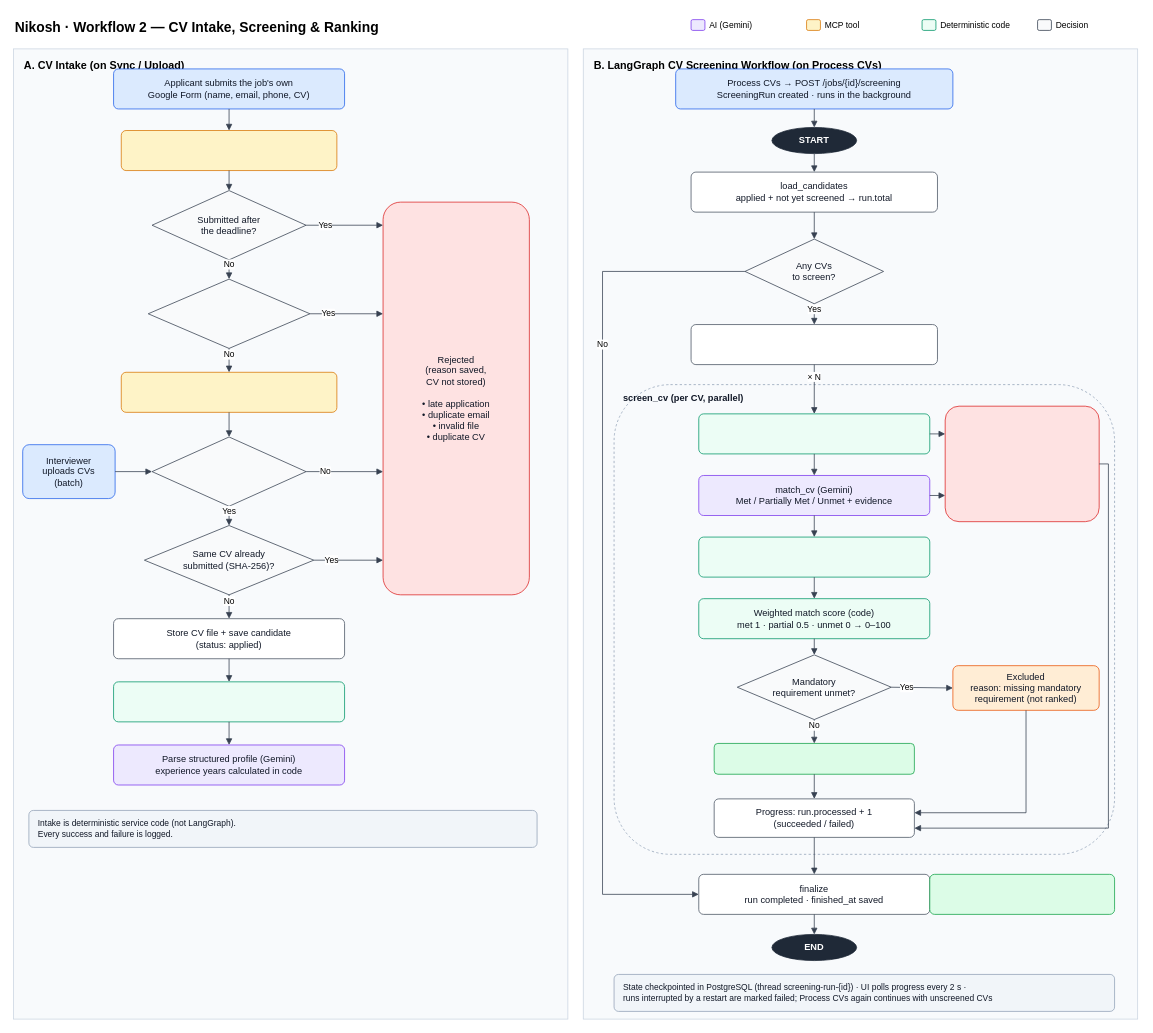
Image size: 1153x1033. Some labels were removed from this diagram. The shapes that lost their labels are listed below. From the top down, each one's centre as x and y in pixels, then its label:
At point 229,150: "Sync new responses (MCP: list_job_applications)".
At point 228,313: "Email already applied to this job?".
At point 813,344: "dispatch: Send() one branch per CV (max 3 in parallel)".
At point 229,392: "Download CV from Drive (MCP: download_cv)".
At point 814,433: "Prepare CV extract text / parse profile if missing".
At point 228,471: "PDF / DOCX and ≤ 10 MB?".
At point 1021,463: "On error: CV marked failed (error saved, other CVs continue)".
At point 814,556: "Experience rule (code) years from job dates vs required".
At point 229,701: "Extract text (pypdf / python-docx, OCR fallback)".
At point 813,758: "Eligible (status: applied)".
At point 1022,894: "Ranked list: eligible by score ↓ Applicants · Excluded · Rejected tabs".
